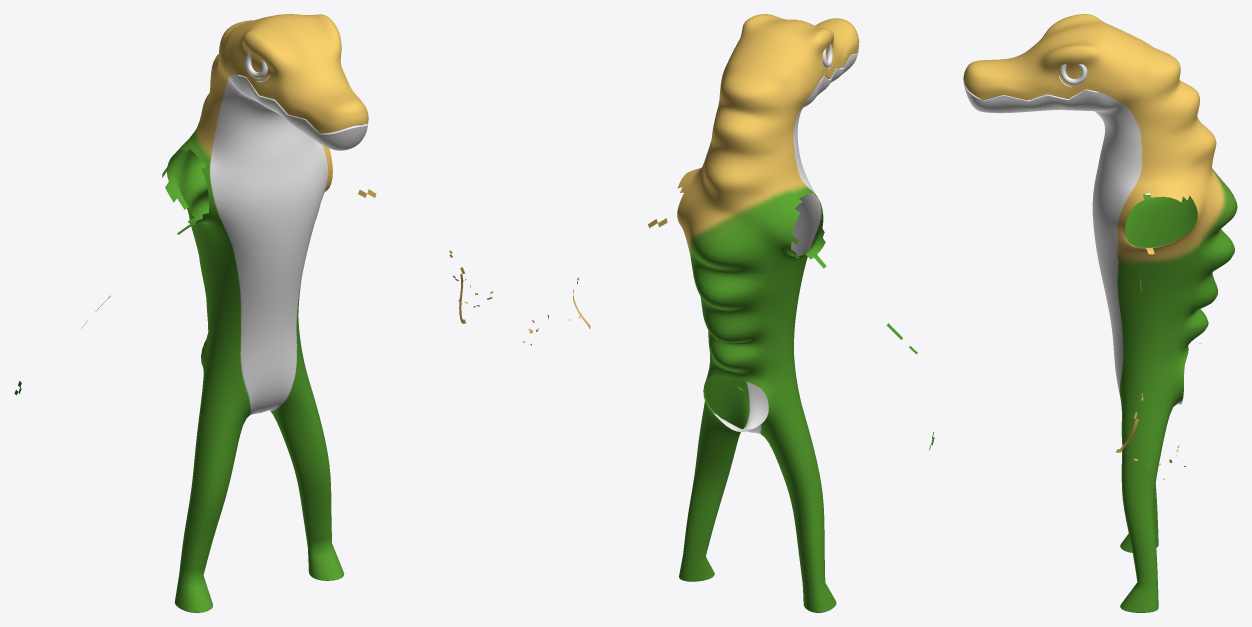
The model's file is Gummygo_Body.obj.
3 views of the same model, side by side, from view 1: azimuth 30°, elevation 25°; view 2: azimuth 150°, elevation 25°; view 3: azimuth 270°, elevation 25° (orthographic). The views are drawn at different scales.
Visible parts, largest first — view 1: Chest, Head, Spine_1, Waist, Spine_2, Thigh_R, Neck_1, Thigh_L, Shoulder_R, Leg_R, Neck_2, Leg_L (+4 smaller); view 2: Chest, Head, Spine_2, Spine_1, Waist, Neck_2, Neck_1, Thigh_L, Neck_3, Thigh_R, Shoulder_R, Leg_R (+4 smaller); view 3: Chest, Head, Spine_2, Spine_1, Neck_1, Thigh_L, Neck_2, Shoulder_L, Waist, Neck_3, Leg_L, Jaw (+1 smaller).
Boxes of the visible parts, left/top/right/bottom form: Chest: left=182, top=128, right=323, bottom=259; Head: left=221, top=14, right=365, bottom=119; Spine_1: left=202, top=273, right=300, bottom=362; Waist: left=202, top=338, right=309, bottom=416; Spine_2: left=191, top=194, right=310, bottom=300; Thigh_R: left=191, top=391, right=250, bottom=499; Neck_1: left=196, top=94, right=310, bottom=166; Thigh_L: left=270, top=384, right=329, bottom=478; Shoulder_R: left=167, top=134, right=237, bottom=221; Leg_R: left=179, top=488, right=225, bottom=579; Neck_2: left=208, top=54, right=289, bottom=129; Leg_L: left=296, top=465, right=331, bottom=540; Chest: left=686, top=173, right=818, bottom=295; Head: left=722, top=16, right=856, bottom=102; Spine_2: left=694, top=241, right=804, bottom=342; Spine_1: left=708, top=308, right=796, bottom=389; Waist: left=704, top=371, right=804, bottom=441; Neck_2: left=709, top=111, right=799, bottom=162; Neck_1: left=699, top=146, right=805, bottom=194; Thigh_L: left=694, top=394, right=749, bottom=486; Neck_3: left=717, top=75, right=805, bottom=127; Thigh_R: left=768, top=415, right=822, bottom=505; Shoulder_R: left=755, top=183, right=823, bottom=264; Leg_R: left=791, top=496, right=825, bottom=587; Chest: left=1092, top=152, right=1237, bottom=273; Head: left=965, top=17, right=1161, bottom=104; Spine_2: left=1095, top=223, right=1234, bottom=311; Spine_1: left=1104, top=289, right=1208, bottom=369; Neck_1: left=1098, top=122, right=1216, bottom=179; Thigh_L: left=1121, top=410, right=1170, bottom=500; Neck_2: left=1103, top=82, right=1200, bottom=150; Shoulder_L: left=1106, top=175, right=1209, bottom=244; Waist: left=1113, top=349, right=1180, bottom=416; Neck_3: left=1096, top=50, right=1184, bottom=125; Leg_L: left=1123, top=499, right=1157, bottom=585; Jaw: left=968, top=89, right=1119, bottom=113.
Size of the model in its own units: 2.47 by 3.05 by 1.39.
